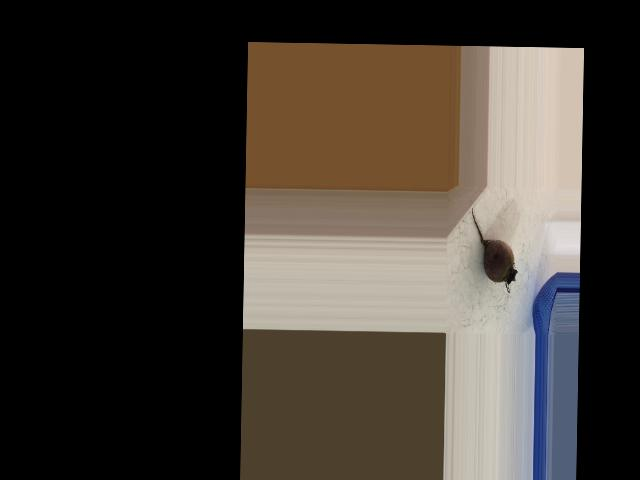beet: (469, 208, 518, 292)
